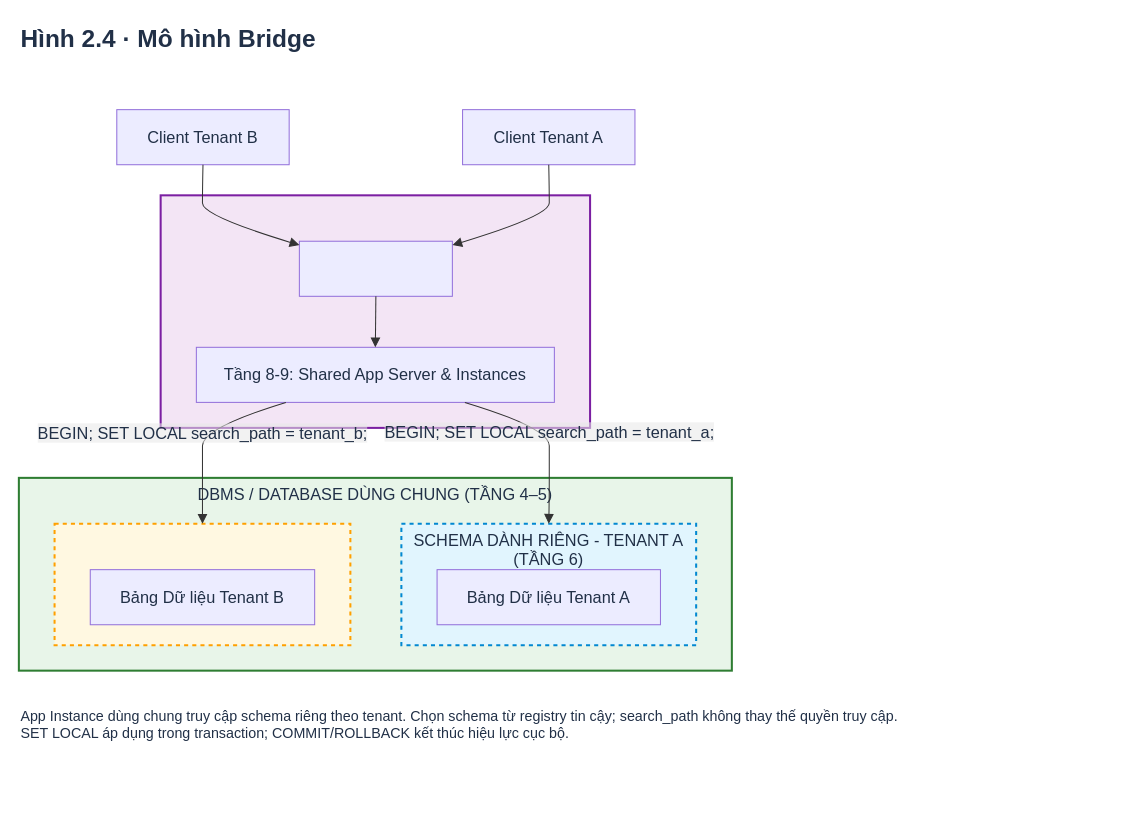
Some shapes in this 1127 by 820 pixel diagram are drawn without their labels. The shapes that lost their labels are listed below. From the top down, each one's box as (x1, y1, x2, y2) in pixels, then its label:
(298, 240, 452, 296): API Gateway
(159, 194, 591, 428): TẦNG THỰC THI DÙNG CHUNG (GỘP)
(53, 522, 351, 646): SCHEMA DÀNH RIÊNG - TENANT B (TẦNG 6)
